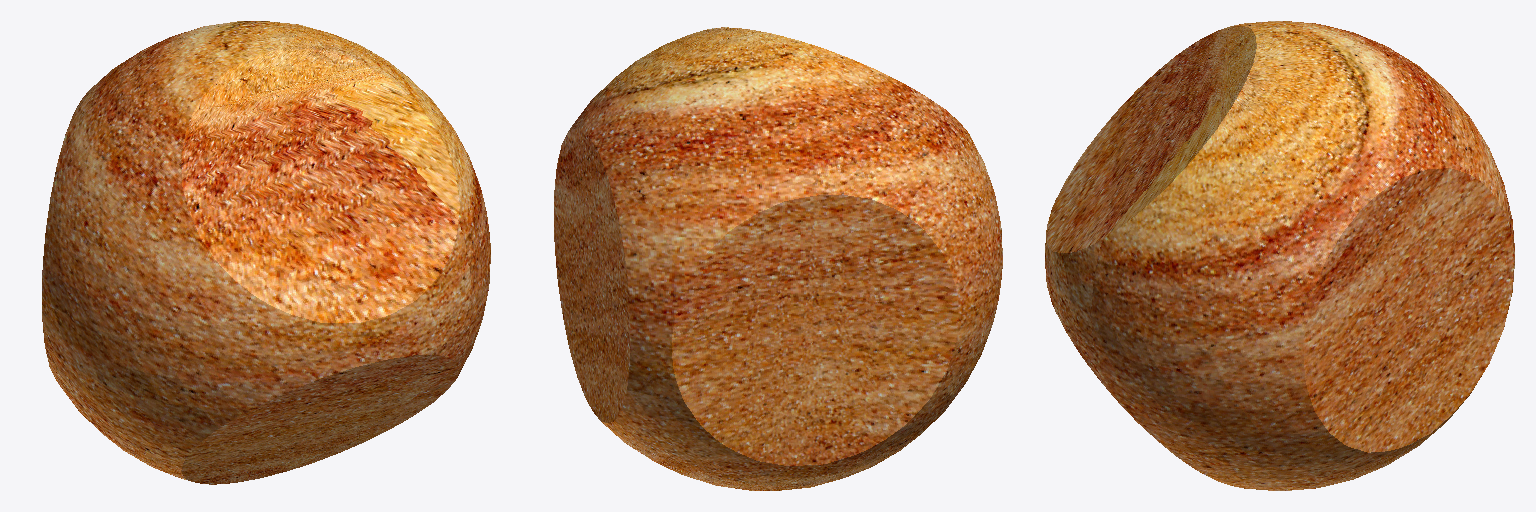
3 renders of one model, left to right at view 1: azimuth 30°, elevation 25°; view 2: azimuth 150°, elevation 25°; view 3: azimuth 270°, elevation 25°, orthographic.
Visible parts, largest first — view 1: Cube.005; view 2: Cube.005; view 3: Cube.005.
Part boxes in pixels (x1,y1,x2,y2): Cube.005: (42, 21, 490, 484); Cube.005: (554, 27, 1002, 490); Cube.005: (1045, 21, 1514, 490).
Size of the model in its own units: 1.83 by 1.83 by 1.83.
Materials: 1 (1 with a texture image).